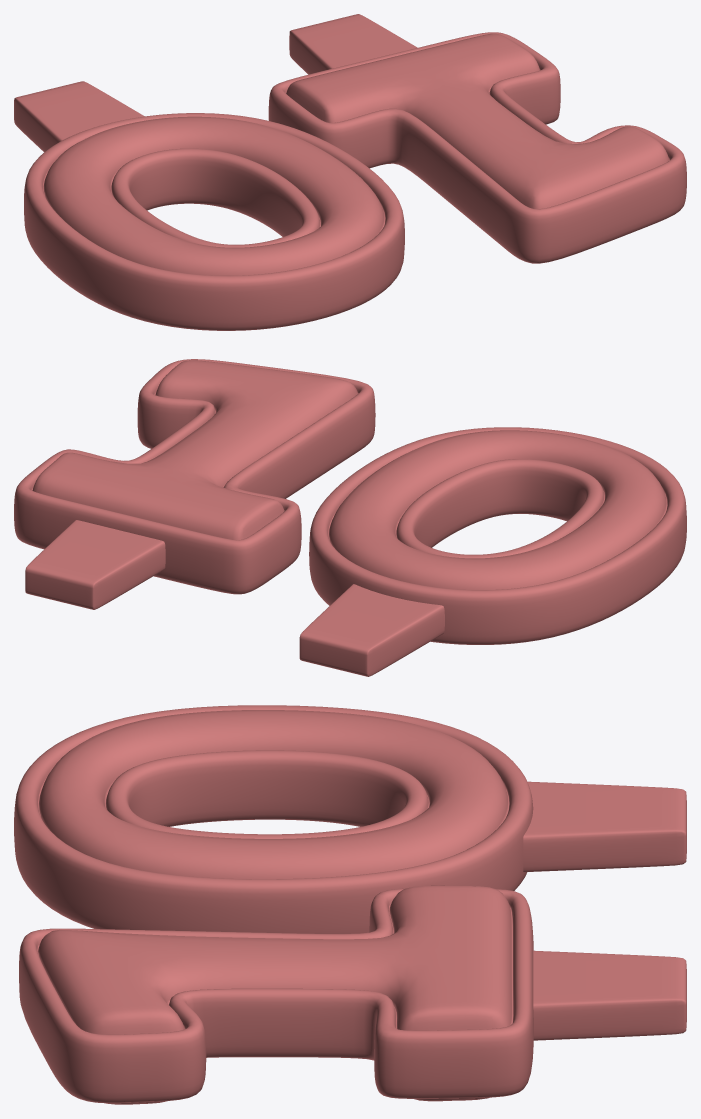
3 views of the same model, one above another, from view 1: azimuth 30°, elevation 25°; view 2: azimuth 150°, elevation 25°; view 3: azimuth 270°, elevation 25° (orthographic). The views are drawn at different scales.
Visible parts, largest first — view 1: _Number_1_v2:_Number_1_v1; view 2: _Number_1_v2:_Number_1_v1; view 3: _Number_1_v2:_Number_1_v1.
Part boxes in pixels (<box>): _Number_1_v2:_Number_1_v1: <box>14,14,686,330</box>; _Number_1_v2:_Number_1_v1: <box>14,359,686,676</box>; _Number_1_v2:_Number_1_v1: <box>14,705,686,1104</box>.
Bounding box in the file's own units: 15.62 × 1.99 × 13.08.
